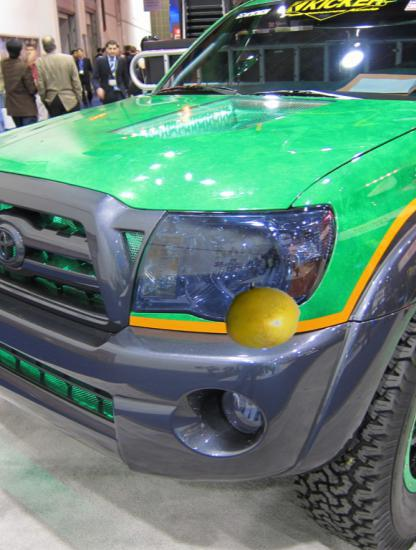Maracuja: (224, 277, 301, 354)
